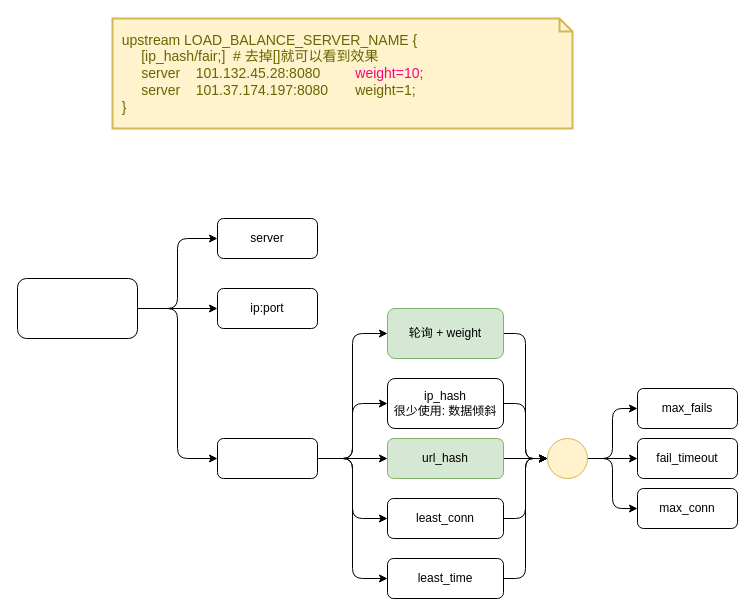
This 755x616 diagram has some shape labels left out. The box of each missing label's shape, as (x1, y1, x2, y2) in pixels:
upstream: (16, 278, 138, 338)
负载算法: (216, 438, 318, 478)
配合: (546, 438, 588, 478)
